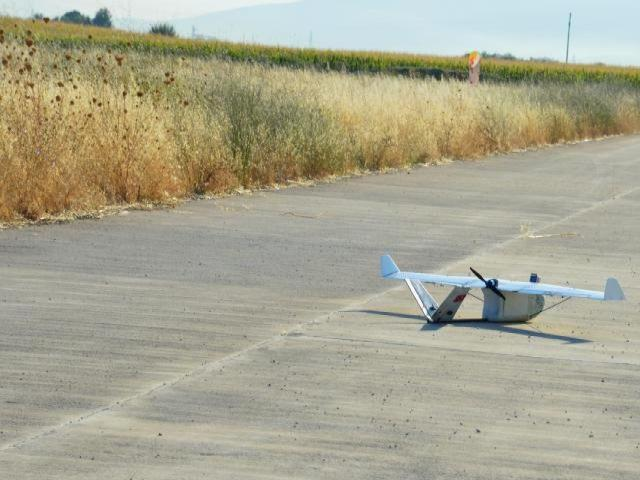iha: (377, 243, 626, 323)
